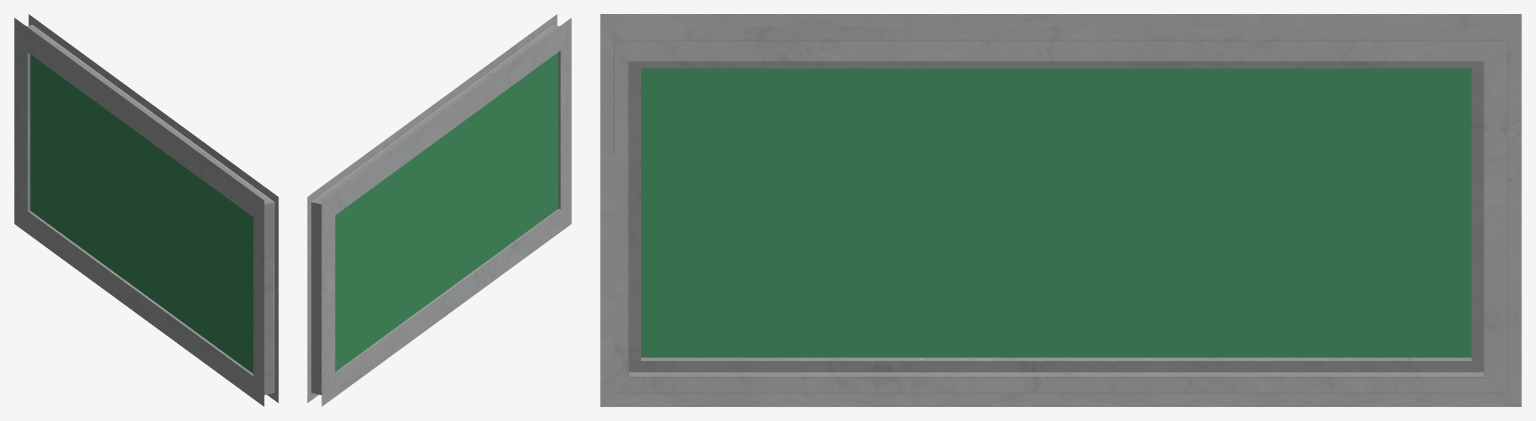
The model's file is WindowPanelD.fbx.
3 views of the same model, side by side, from view 1: azimuth 30°, elevation 25°; view 2: azimuth 150°, elevation 25°; view 3: azimuth 270°, elevation 25° (orthographic). The views are drawn at different scales.
Visible parts, largest first — view 1: Glass, Frame; view 2: Glass, Frame; view 3: Glass, Frame.
Part boxes in pixels (bbox=[...]): Glass: bbox=[30, 54, 253, 373]; Frame: bbox=[14, 14, 278, 406]; Glass: bbox=[335, 52, 558, 371]; Frame: bbox=[307, 14, 571, 406]; Glass: bbox=[641, 68, 1471, 357]; Frame: bbox=[600, 14, 1521, 406].
Size of the model in its own units: 6.28 by 86.15 by 189.
